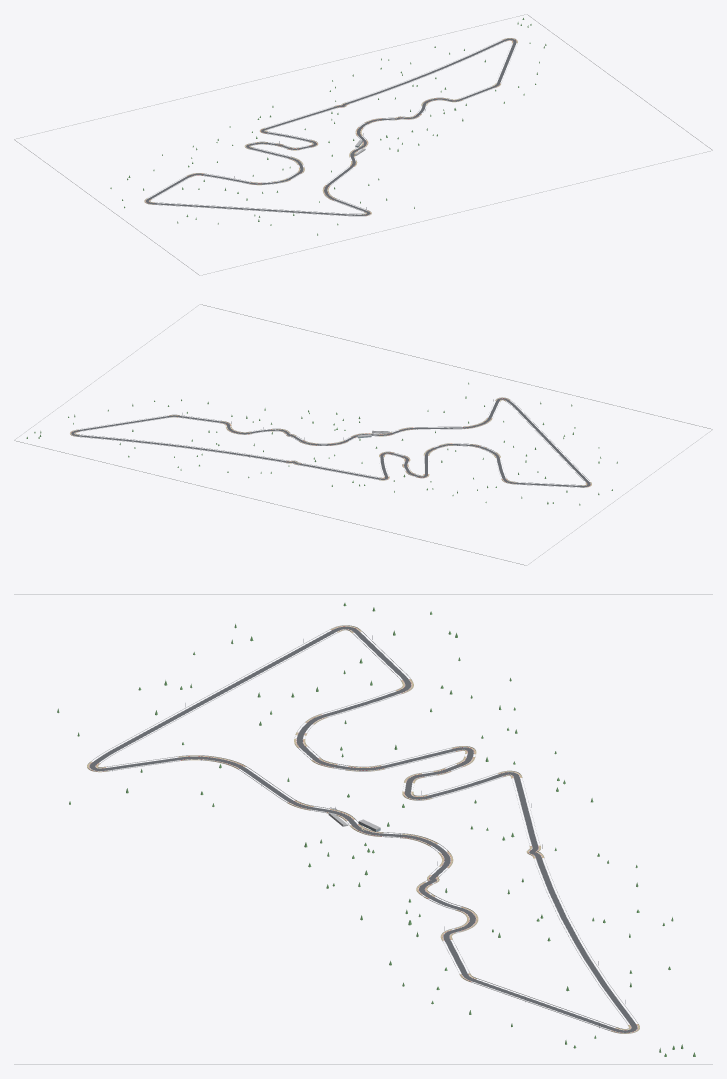
Rendered from cota.glb.
3 renders of one model, top to bottom at view 1: azimuth 30°, elevation 25°; view 2: azimuth 150°, elevation 25°; view 3: azimuth 270°, elevation 25°, orthographic. The views are drawn at different scales.
Parts seen in each view (by area): view 1: cota.barrier, cota.tarmac, cota.gravel, cota.foliage; view 2: cota.barrier, cota.tarmac, cota.gravel, cota.foliage; view 3: cota.tarmac, cota.barrier, cota.gravel, cota.foliage.
Part boxes in pixels (box(x1,y1,x2,y2)): cota.barrier: box(14, 14, 712, 275); cota.tarmac: box(145, 38, 516, 215); cota.gravel: box(144, 38, 517, 216); cota.foliage: box(110, 18, 546, 235); cota.barrier: box(14, 304, 712, 565); cota.tarmac: box(71, 398, 590, 487); cota.gravel: box(70, 397, 591, 487); cota.foliage: box(26, 382, 617, 505); cota.tarmac: box(89, 626, 637, 1032); cota.barrier: box(14, 594, 712, 1064); cota.gravel: box(87, 625, 639, 1033); cota.foliage: box(57, 603, 695, 1056).
Size of the model in its own units: 2126 by 12.46 by 1336.
